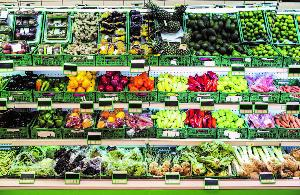apple: (10, 12, 42, 40), (0, 42, 36, 63)
avocado: (186, 13, 240, 43), (190, 42, 248, 63)
bell_pepper: (67, 71, 97, 97), (214, 109, 248, 131), (186, 108, 216, 132), (65, 110, 95, 134), (156, 110, 186, 132), (98, 72, 128, 94), (39, 72, 66, 96), (35, 112, 64, 134), (96, 110, 122, 134), (158, 75, 188, 95), (189, 75, 219, 95), (219, 74, 246, 96), (128, 76, 156, 94)
carrot: (123, 110, 154, 134), (250, 76, 280, 100), (249, 112, 277, 136), (278, 108, 300, 134), (280, 81, 300, 103)
eggplant: (0, 74, 39, 96), (0, 110, 34, 134)
kiwi: (44, 10, 70, 42), (39, 43, 66, 59)
lime: (267, 12, 299, 44), (238, 10, 268, 44), (247, 44, 279, 62), (276, 45, 300, 61)
pineapple: (156, 8, 186, 40), (162, 40, 188, 60)
